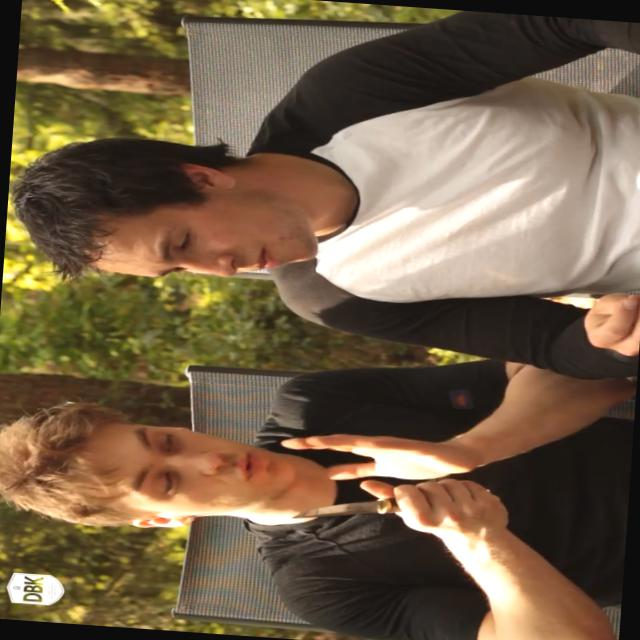knife: (274, 464, 476, 544)
